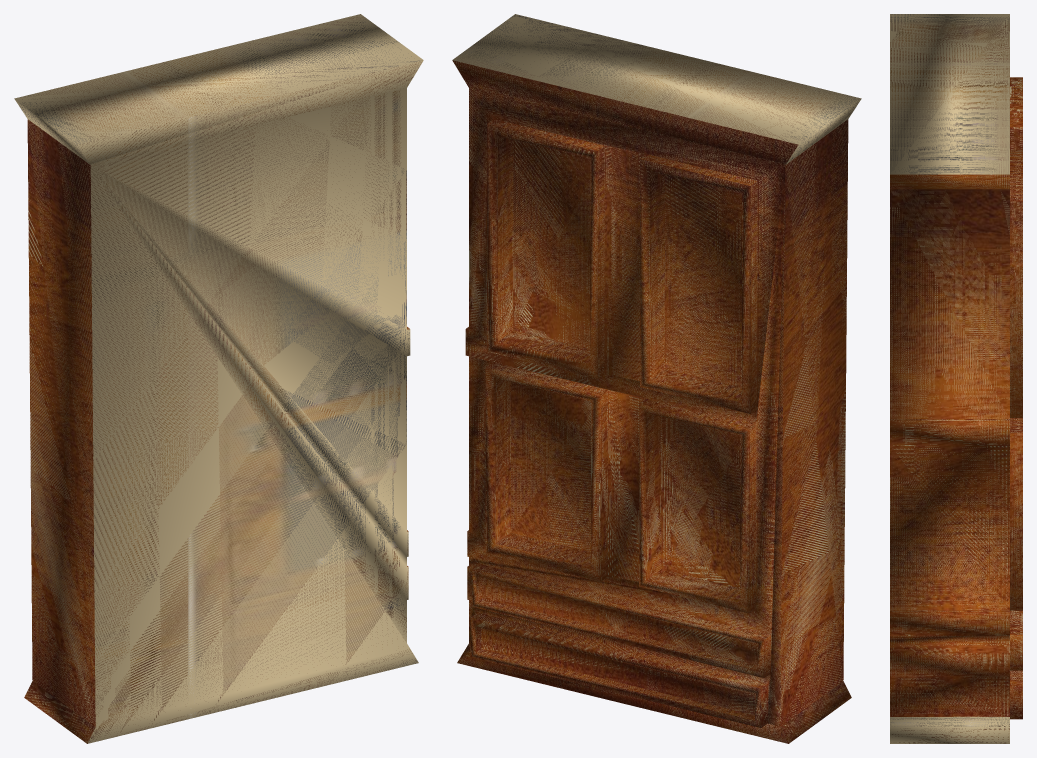
3 renders of one model, left to right at view 1: azimuth 30°, elevation 25°; view 2: azimuth 150°, elevation 25°; view 3: azimuth 270°, elevation 25°, orthographic. The views are drawn at different scales.
Parts seen in each view (by area): view 1: mesh1_mesh1-geometry; view 2: mesh1_mesh1-geometry; view 3: mesh1_mesh1-geometry.
Boxes of the visible parts, x1,y1,x2,y2 form: mesh1_mesh1-geometry: [14, 14, 423, 743]; mesh1_mesh1-geometry: [452, 14, 861, 743]; mesh1_mesh1-geometry: [890, 14, 1022, 743].
Size of the model in its own units: 0.508 by 0.8428 by 0.1776.
